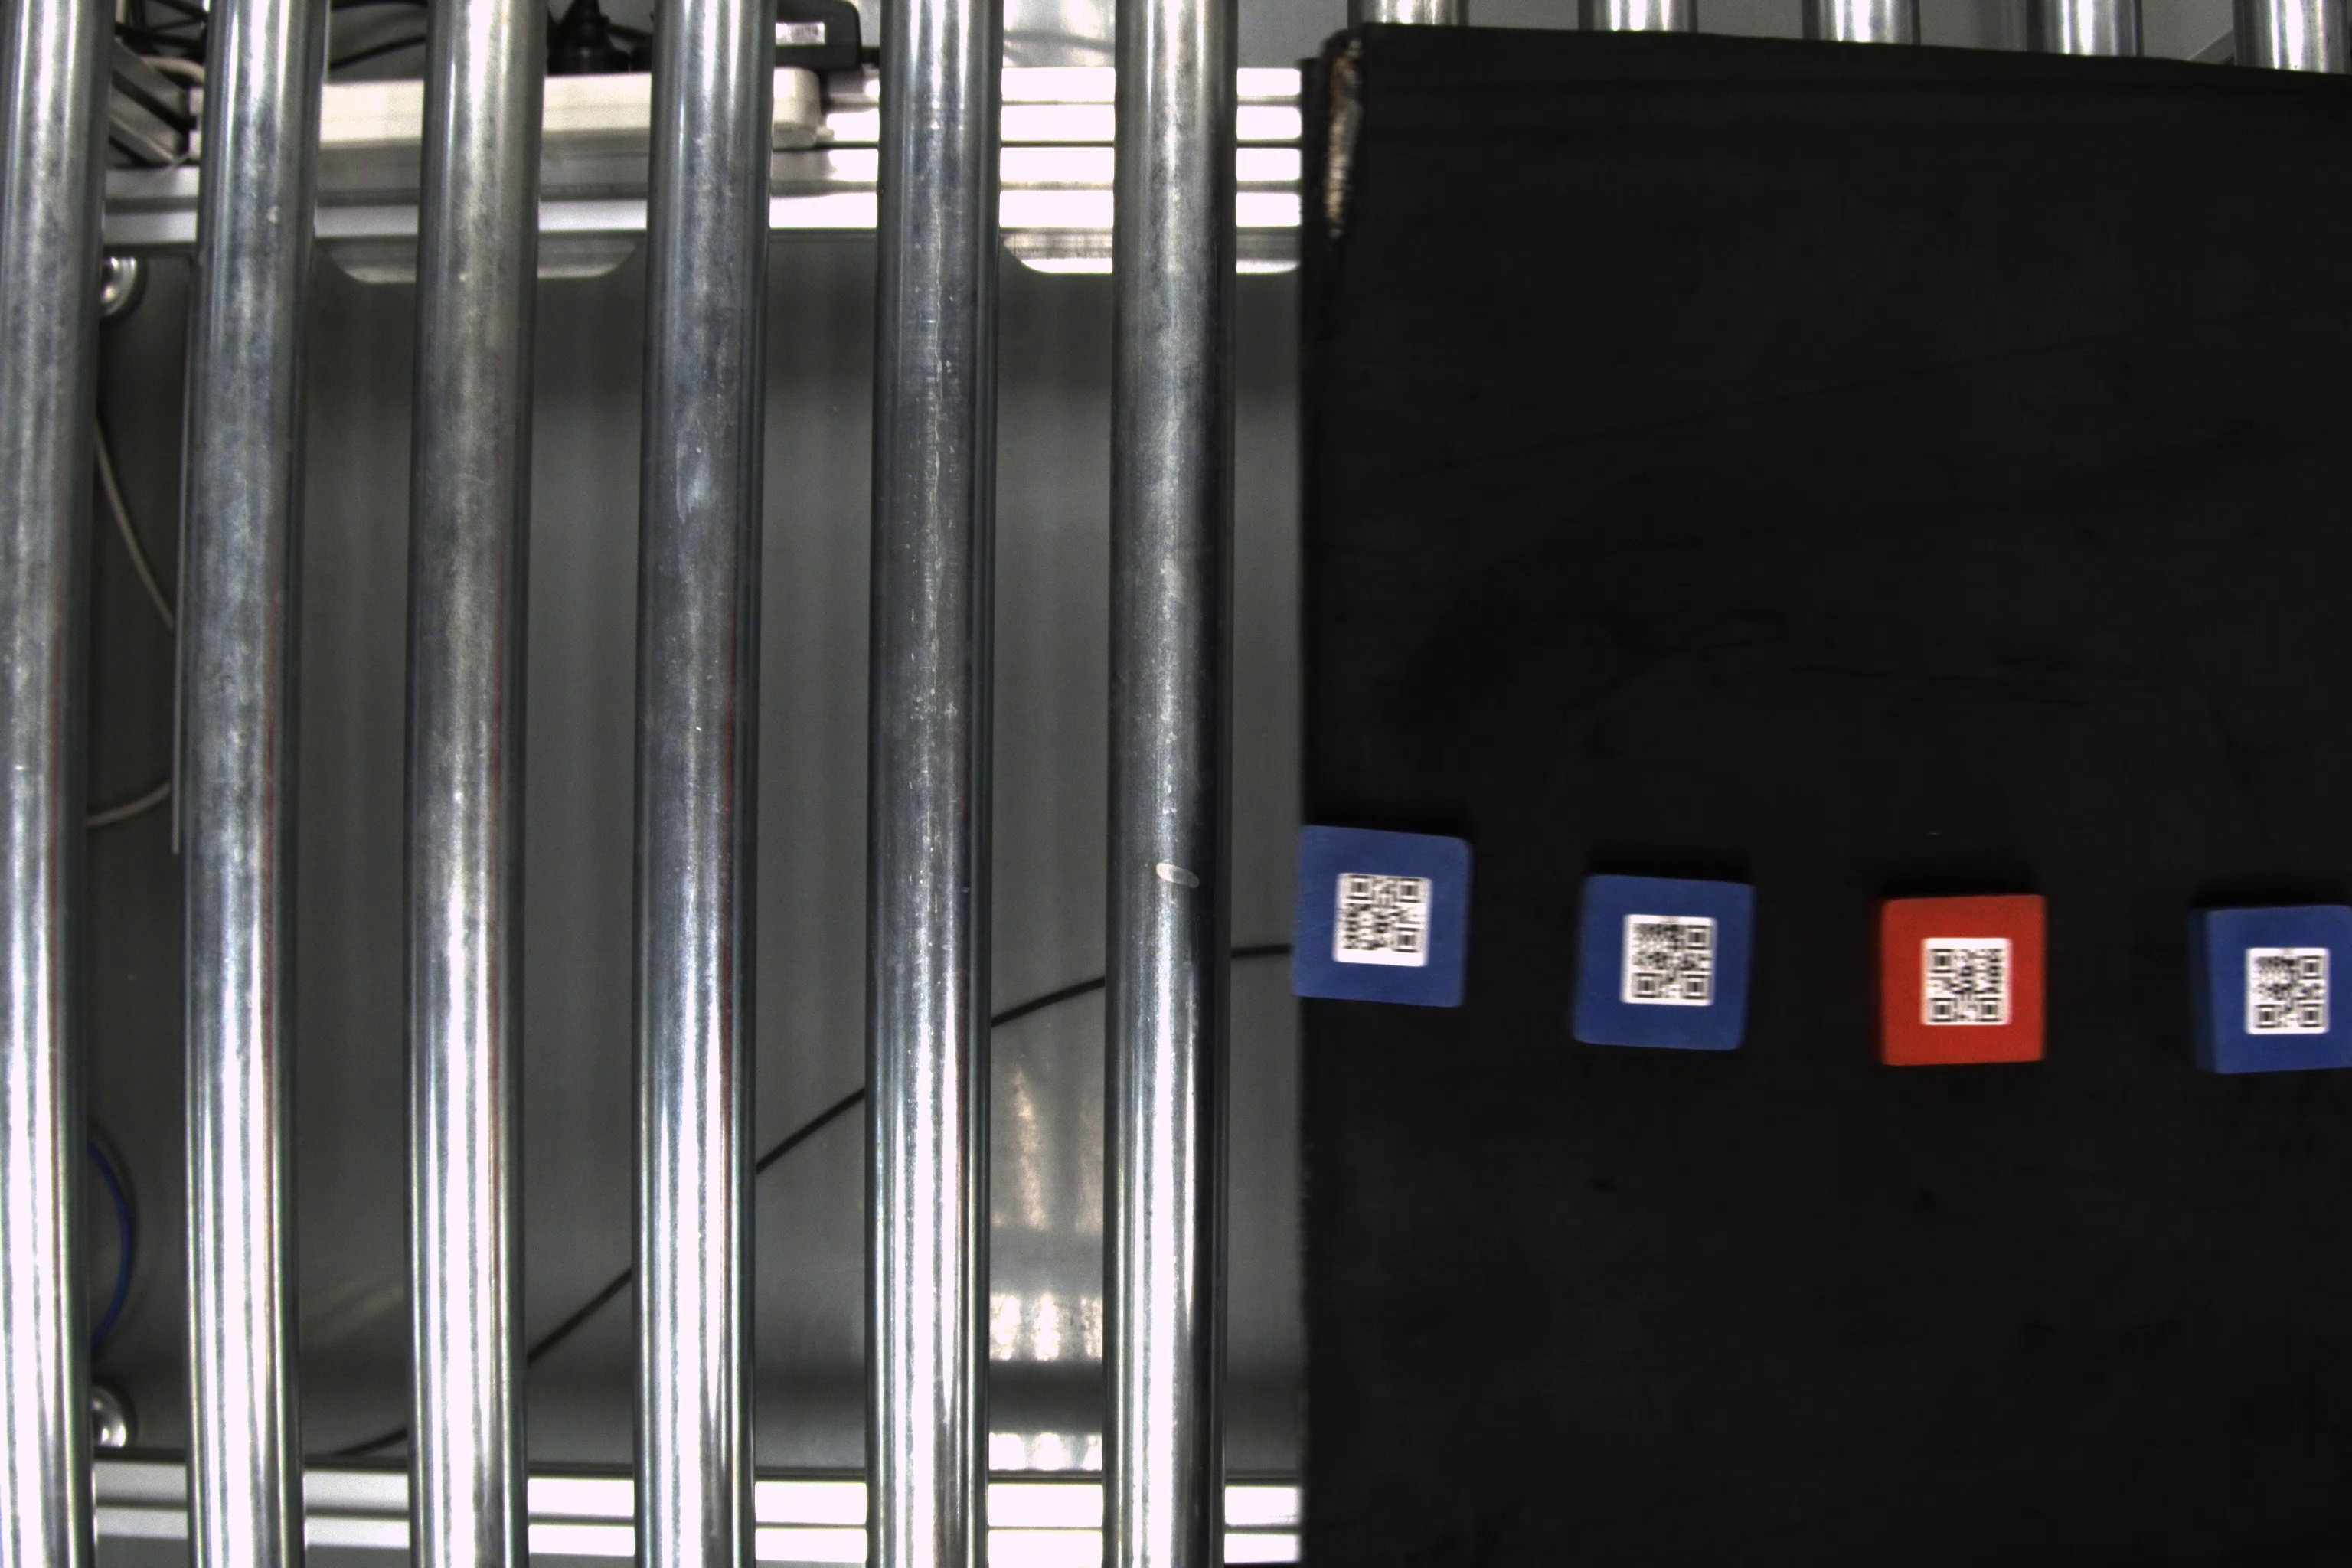wood: (1290, 819, 1479, 1015), (1570, 870, 1766, 1057), (1871, 891, 2058, 1066), (2186, 898, 2347, 1081)
